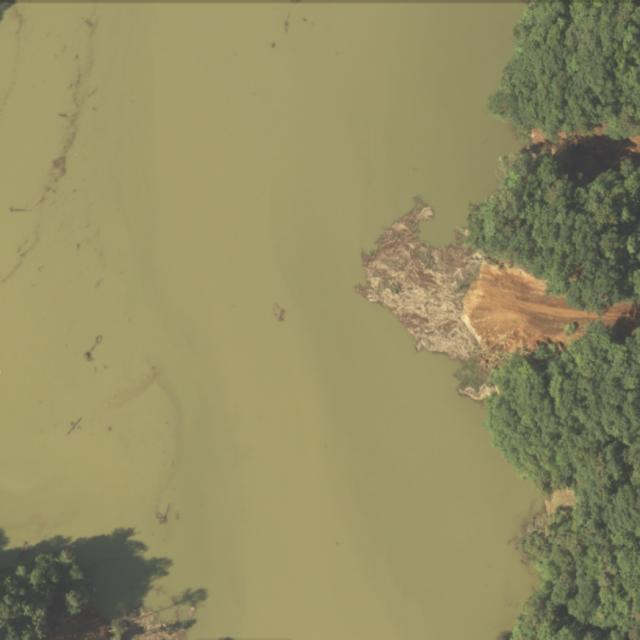landslide: (356, 199, 640, 368), (525, 128, 640, 165)
